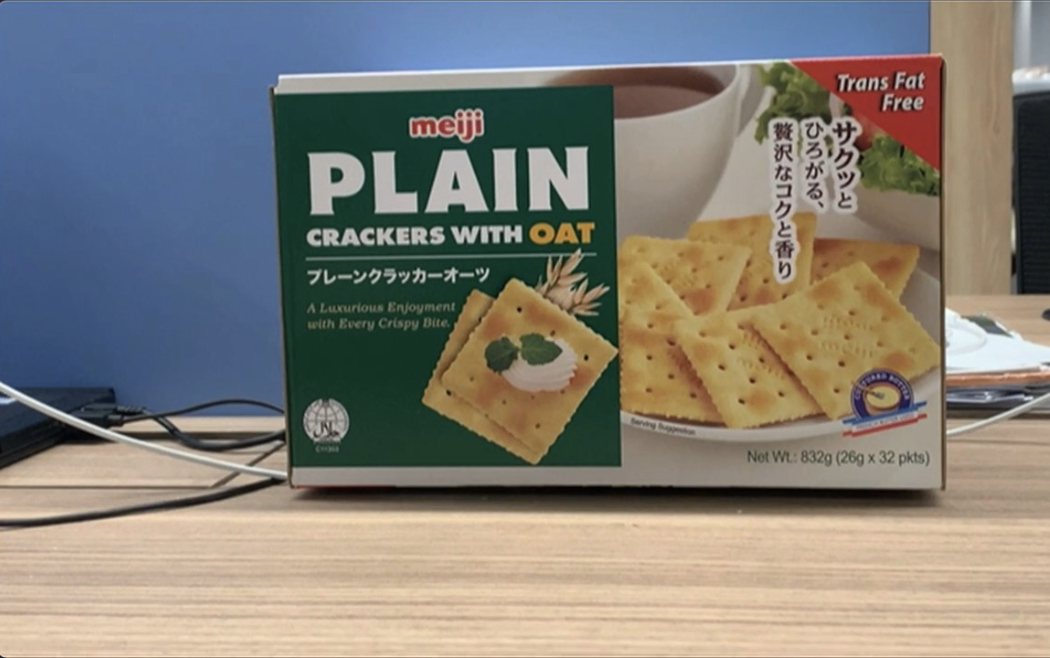crackers_550g: (293, 75, 937, 476)
